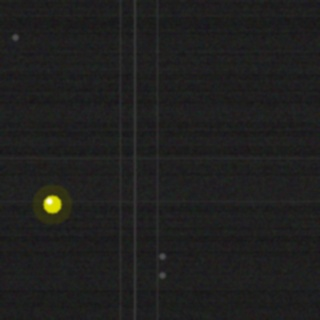yellow_warning: (41, 193, 63, 215)
